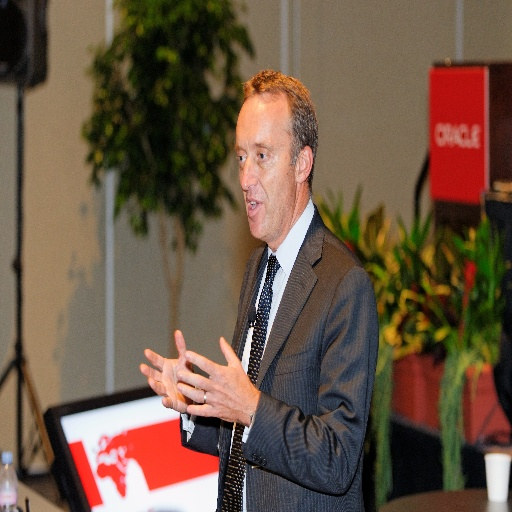hand: (175, 334, 253, 425), (135, 332, 207, 395)
